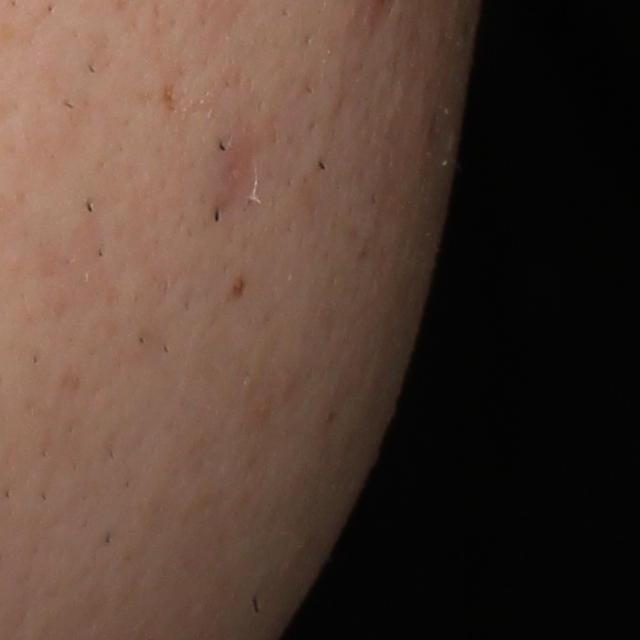nevus: (230, 271, 251, 299)
